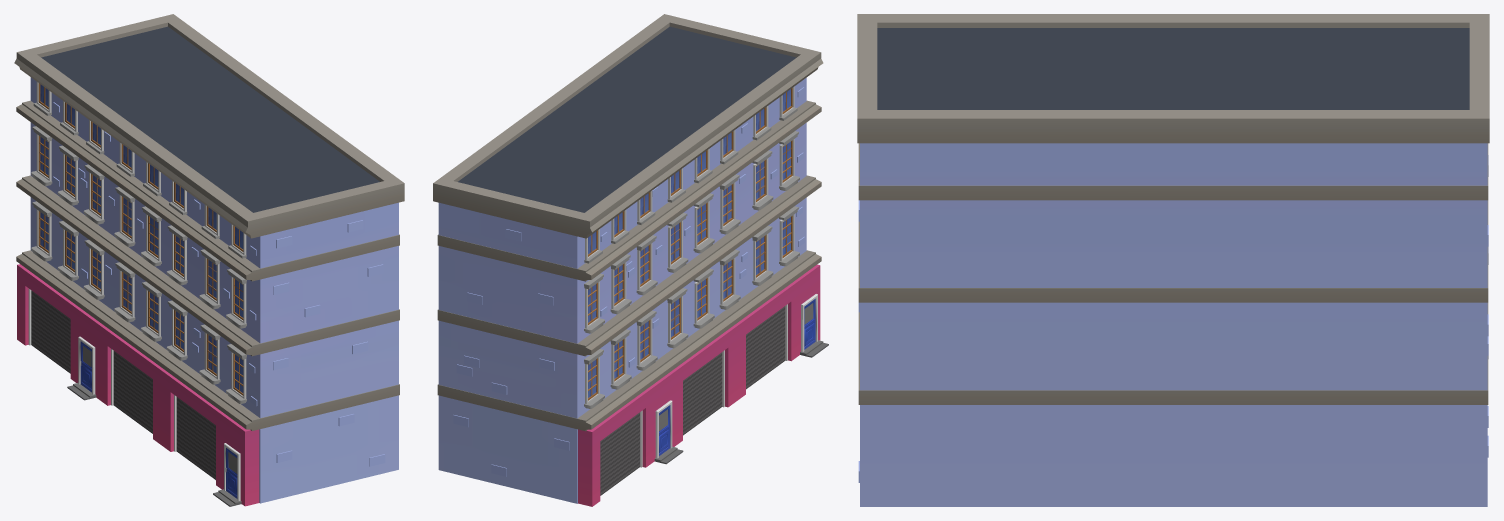
File: Building_20_1_G.fbx
3 views of the same model, side by side, from view 1: azimuth 30°, elevation 25°; view 2: azimuth 150°, elevation 25°; view 3: azimuth 270°, elevation 25° (orthographic). The views are drawn at different scales.
Parts seen in each view (by area): view 1: Building_20_1_G; view 2: Building_20_1_G; view 3: Building_20_1_G.
Boxes of the visible parts, box(x1,y1,x2,y2) form: Building_20_1_G: box(14, 14, 404, 506); Building_20_1_G: box(433, 14, 828, 506); Building_20_1_G: box(857, 14, 1489, 506).
Size of the model in its own units: 774 by 1247 by 1827.
